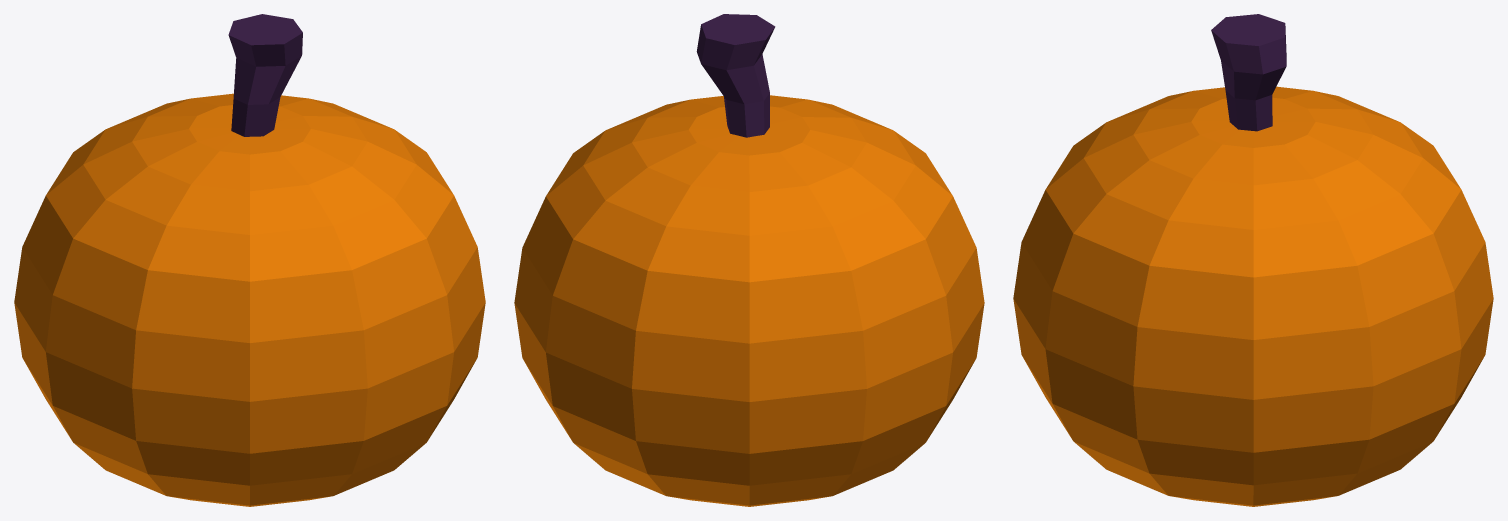
File: Halloween_pumpkin.fbx
The picture shows the model from 3 angles, left to right: view 1: azimuth 30°, elevation 25°; view 2: azimuth 150°, elevation 25°; view 3: azimuth 270°, elevation 25°; orthographic projection. The views are drawn at different scales.
Visible parts, largest first — view 1: Empty pumpkin; view 2: Empty pumpkin; view 3: Empty pumpkin.
Boxes of the visible parts, box(x1,y1,x2,y2) form: Empty pumpkin: box(14, 14, 485, 506); Empty pumpkin: box(514, 14, 984, 506); Empty pumpkin: box(1013, 14, 1493, 506).
Size of the model in its own units: 346 by 355 by 346.
